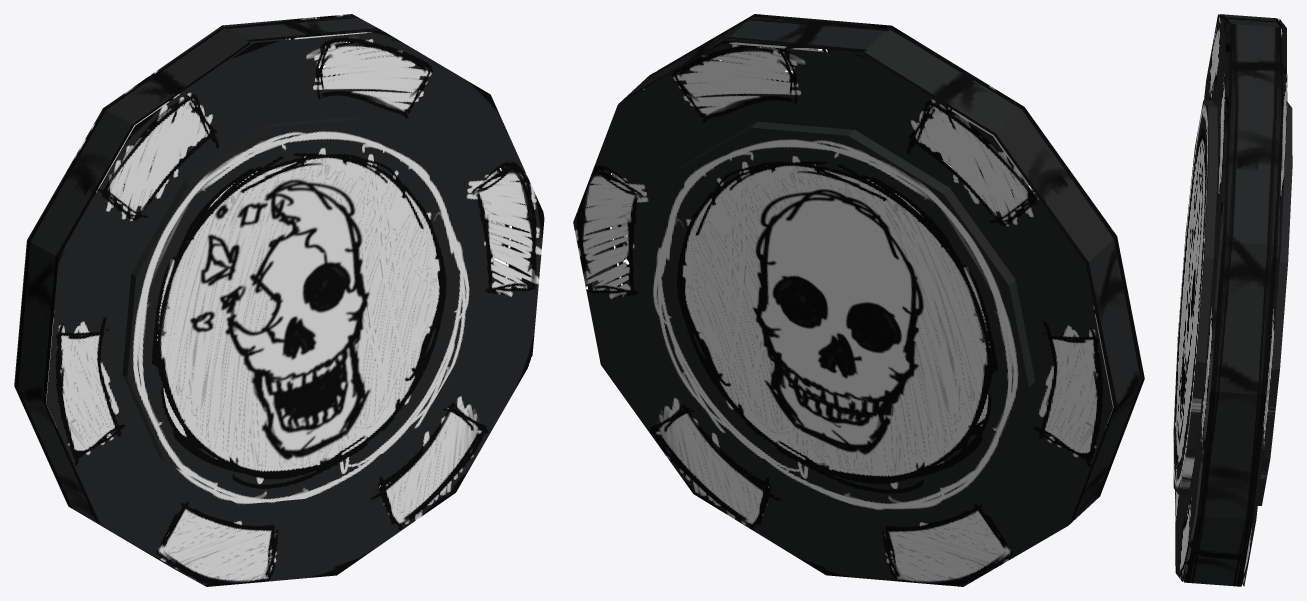
Rendered from Chip gif render.fbx.
The picture shows the model from 3 angles, left to right: view 1: azimuth 30°, elevation 25°; view 2: azimuth 150°, elevation 25°; view 3: azimuth 270°, elevation 25°; orthographic projection. The views are drawn at different scales.
Parts seen in each view (by area): view 1: Cylinder; view 2: Cylinder; view 3: Cylinder.
Boxes of the visible parts, box(x1,y1,x2,y2) form: Cylinder: box(14, 14, 544, 586); Cylinder: box(573, 14, 1144, 586); Cylinder: box(1173, 14, 1292, 586).
Size of the model in its own units: 314 by 316 by 64.75.
